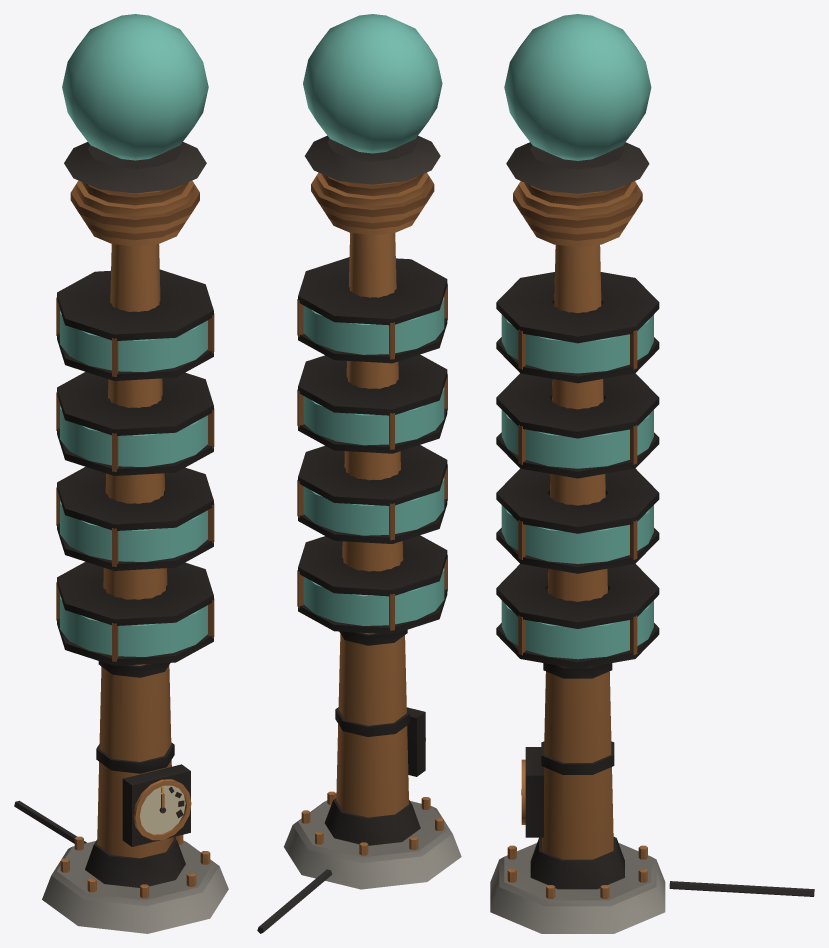
Rendered from relay_stake_post.glb.
3 renders of one model, left to right at view 1: azimuth 30°, elevation 25°; view 2: azimuth 150°, elevation 25°; view 3: azimuth 270°, elevation 25°, orthographic. The views are drawn at different scales.
Visible parts, largest first — view 1: StakePost, CoilGlow, Stake1, Stake2, Stake4, Stake3, StakeDial; view 2: StakePost, CoilGlow, Stake1, Stake4, Stake2, Stake3; view 3: StakePost, CoilGlow, Stake2, Stake3, Stake1, Stake4.
Boxes of the visible parts, x1,y1,x2,y2 form: StakePost: (14,142,228,933); CoilGlow: (62,14,208,160); Stake1: (60,595,207,656); Stake2: (60,500,207,561); Stake4: (60,311,207,372); Stake3: (60,406,207,466); StakeDial: (140,785,185,834); StakePost: (257,135,461,933); CoilGlow: (303,14,442,153); Stake1: (303,568,444,625); Stake4: (303,297,444,354); Stake2: (303,478,444,535); Stake3: (303,387,444,445); StakePost: (490,142,814,933); CoilGlow: (504,14,651,160); Stake2: (501,505,653,563); Stake3: (501,410,653,468); Stake1: (501,600,653,659); Stake4: (501,314,653,373).
Bounding box in the file's own units: 3.33 × 18.4 × 6.17.
